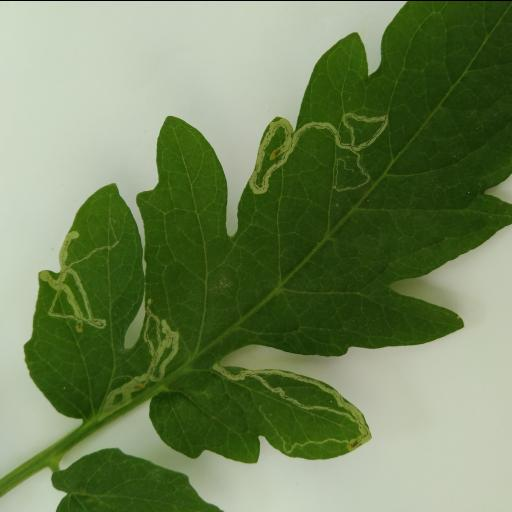disease_tomato: (18, 0, 512, 463)
